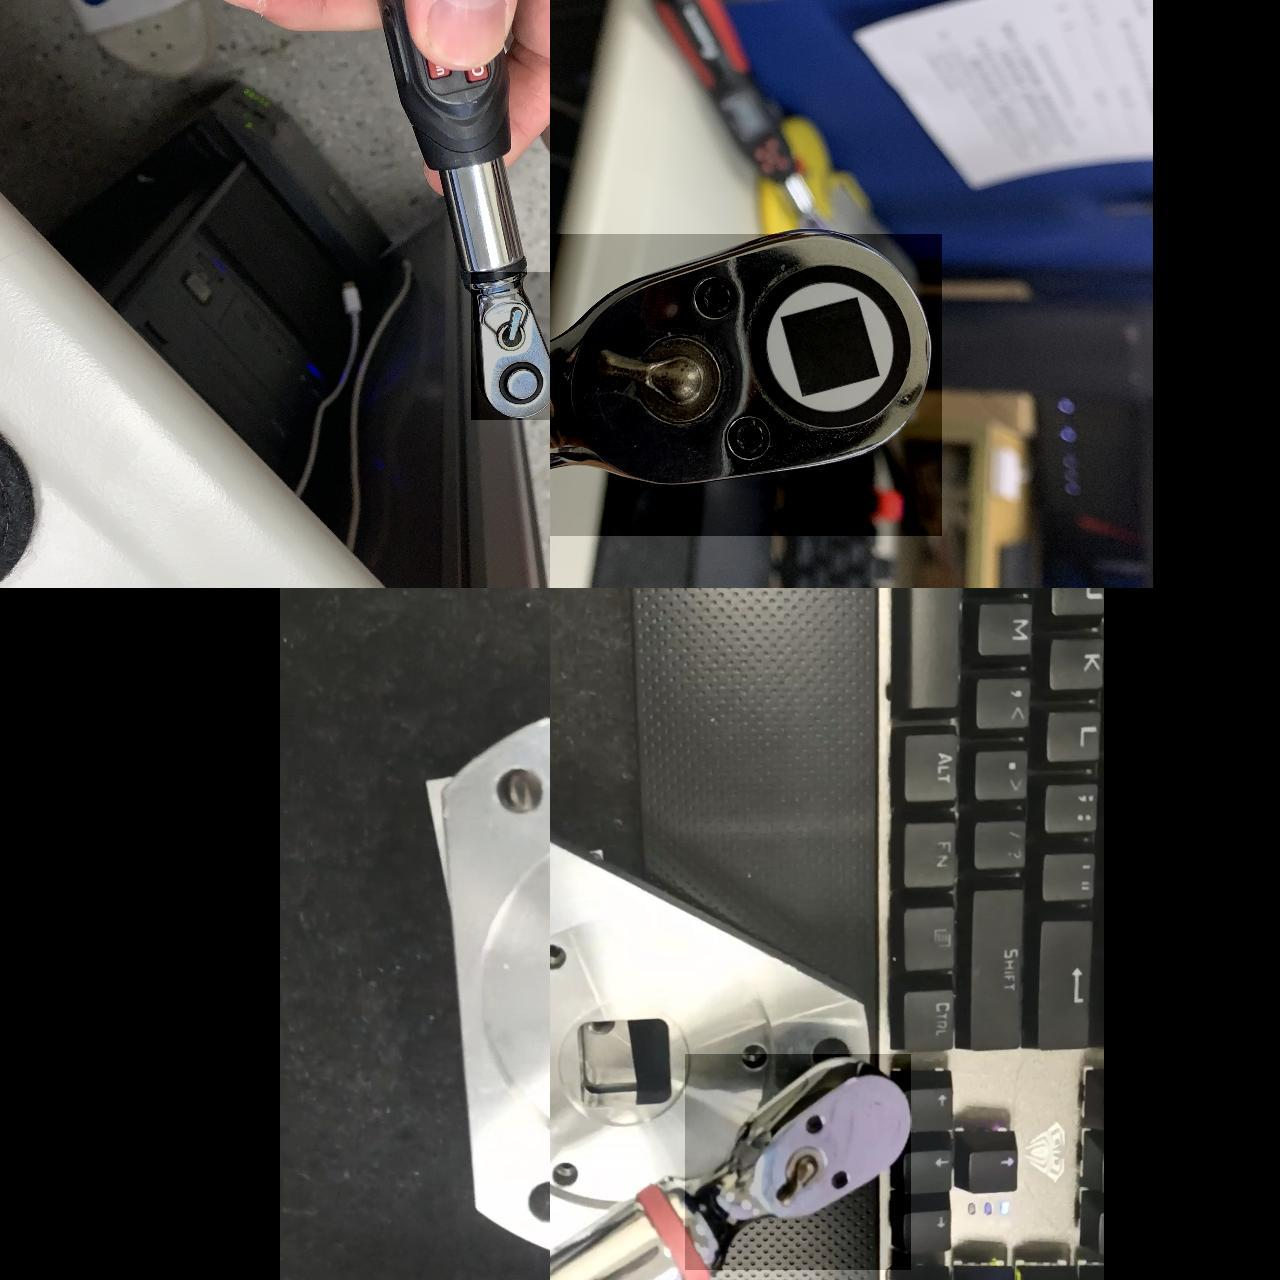Tool: (550, 234, 941, 536), (684, 1054, 910, 1270), (470, 272, 550, 420)
hole: (486, 758, 562, 814), (806, 1025, 854, 1062), (554, 1156, 581, 1208), (524, 1174, 546, 1233), (735, 1037, 764, 1076), (545, 942, 567, 976)
